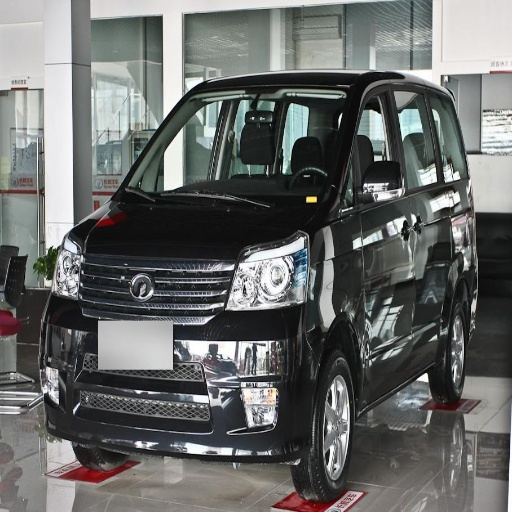front_bumper: (47, 253, 321, 457)
front_glass: (125, 92, 348, 191)
front_left_door: (335, 83, 417, 395)
front_right_light: (53, 231, 81, 298)
